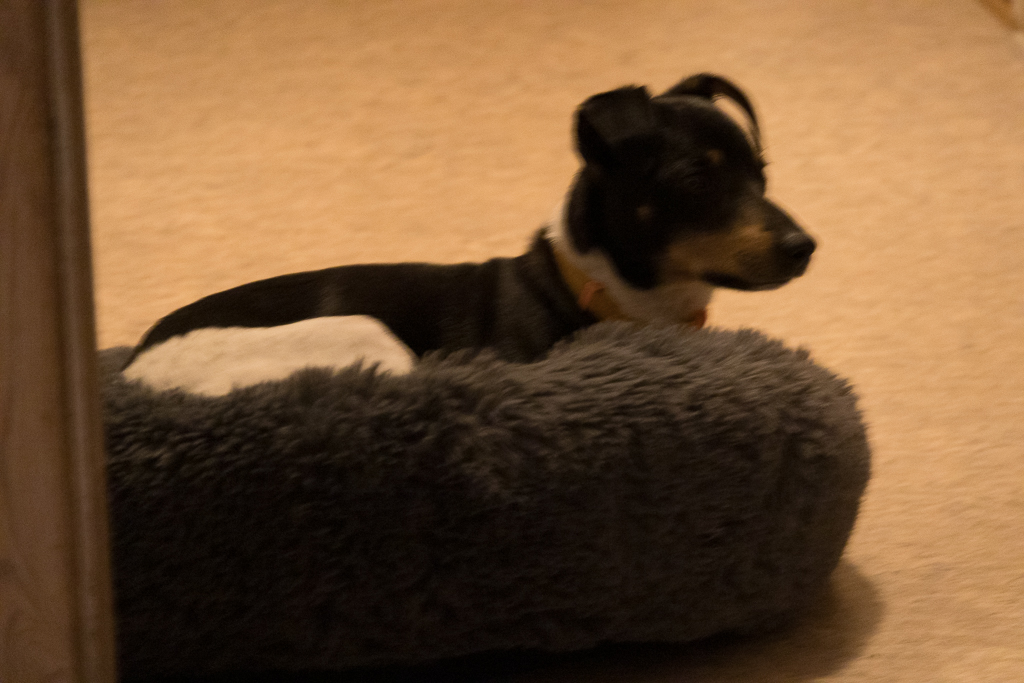Dog: (100, 68, 825, 418)
